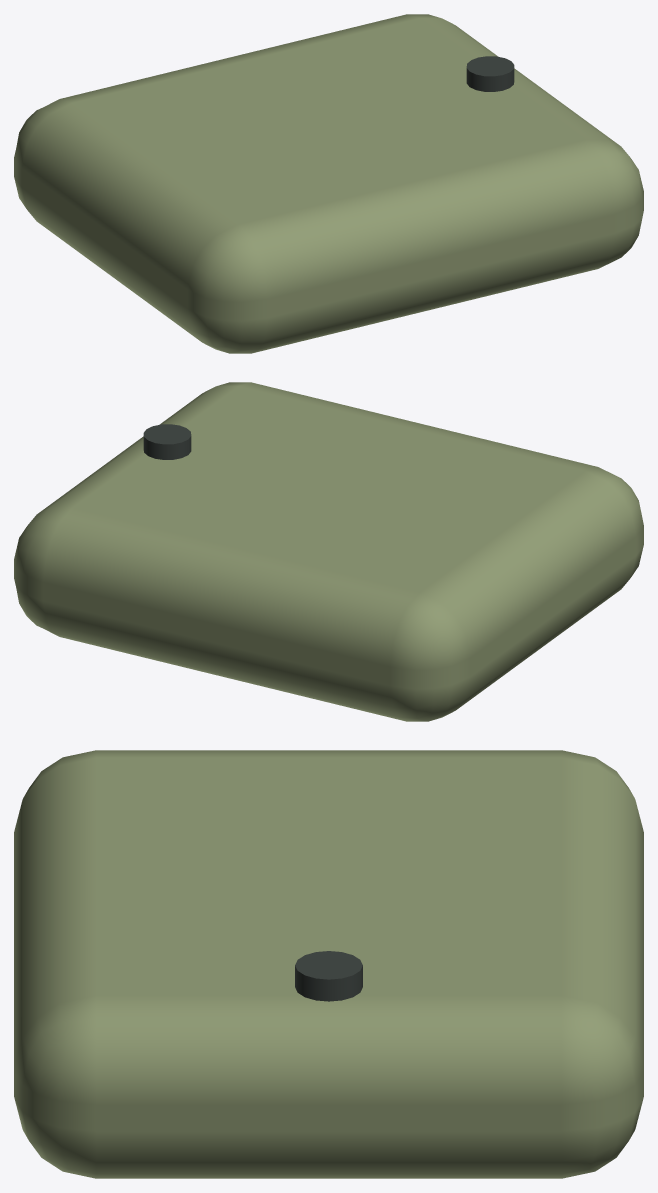
File: water-collection-and-purification-folding-water-bladde-fe100ec1__20177.glb
3 views of the same model, one above another, from view 1: azimuth 30°, elevation 25°; view 2: azimuth 150°, elevation 25°; view 3: azimuth 270°, elevation 25° (orthographic). The views are drawn at different scales.
Visible parts, largest first — view 1: folding-water-bladder; view 2: folding-water-bladder; view 3: folding-water-bladder.
Part boxes in pixels (x1,y1,x2,y2): folding-water-bladder: (14,14,643,353); folding-water-bladder: (14,382,643,721); folding-water-bladder: (14,750,643,1178).
Size of the model in its own units: 0.75 by 0.225 by 0.65.
